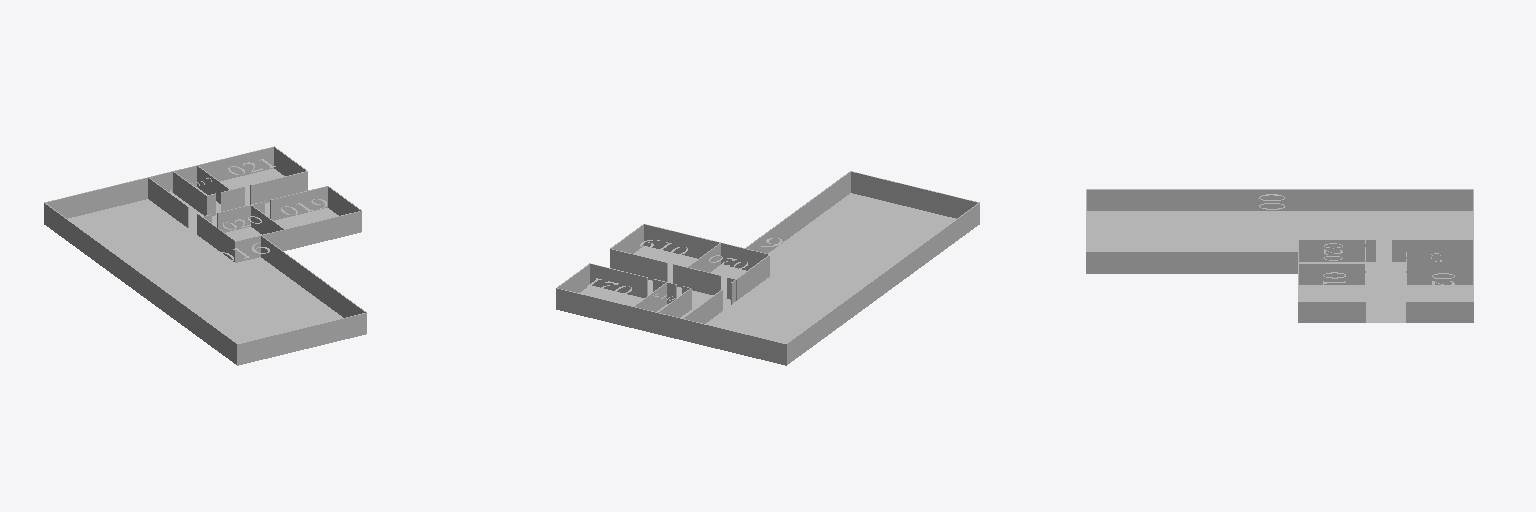
The model's file is sage0.obj.
The picture shows the model from 3 angles: view 1: azimuth 30°, elevation 25°; view 2: azimuth 150°, elevation 25°; view 3: azimuth 270°, elevation 25°; orthographic projection.
Visible parts, largest first — view 1: polySurface46, polySurface2 polySurface8, polySurface2 polySurface10, polySurface2 polySurface6, polySurface2 polySurface9, polySurface2 polySurface11, polySurface2 polySurface7, polySurface2 polySurface15, polySurface2 polySurface14, polySurface2 polySurface12, polySurface2 polySurface27, polySurface2 polySurface29 (+2 smaller); view 2: polySurface46, polySurface2 polySurface8, polySurface2 polySurface9, polySurface2 polySurface10, polySurface2 polySurface7, polySurface2 polySurface6, polySurface2 polySurface11, polySurface2 polySurface15, polySurface2 polySurface14, polySurface2 polySurface29, polySurface2 polySurface26, polySurface2 polySurface12; view 3: polySurface46, polySurface2 polySurface8, polySurface2 polySurface11, polySurface3 polySurface2, polySurface2 polySurface5, polySurface2 polySurface26, polySurface2 polySurface4, polySurface2 polySurface17, polySurface2 polySurface12, polySurface2 polySurface27.
Part boxes in pixels (bbox=[...]): polySurface46: bbox=[68, 168, 342, 343]; polySurface2 polySurface8: bbox=[44, 203, 237, 365]; polySurface2 polySurface10: bbox=[238, 313, 366, 365]; polySurface2 polySurface6: bbox=[236, 211, 361, 262]; polySurface2 polySurface9: bbox=[44, 171, 173, 218]; polySurface2 polySurface11: bbox=[260, 235, 366, 317]; polySurface2 polySurface7: bbox=[174, 146, 274, 186]; polySurface2 polySurface15: bbox=[250, 171, 307, 204]; polySurface2 polySurface14: bbox=[270, 186, 327, 220]; polySurface2 polySurface12: bbox=[148, 177, 188, 227]; polySurface2 polySurface27: bbox=[173, 172, 206, 215]; polySurface2 polySurface29: bbox=[217, 201, 264, 232]; polySurface46: bbox=[580, 193, 955, 343]; polySurface2 polySurface8: bbox=[786, 203, 979, 365]; polySurface2 polySurface9: bbox=[657, 313, 785, 365]; polySurface2 polySurface10: bbox=[851, 171, 979, 218]; polySurface2 polySurface7: bbox=[556, 288, 656, 333]; polySurface2 polySurface6: bbox=[644, 224, 769, 270]; polySurface2 polySurface11: bbox=[745, 171, 850, 253]; polySurface2 polySurface15: bbox=[590, 263, 647, 297]; polySurface2 polySurface14: bbox=[610, 249, 667, 281]; polySurface2 polySurface29: bbox=[673, 264, 720, 294]; polySurface2 polySurface26: bbox=[737, 255, 769, 299]; polySurface2 polySurface12: bbox=[682, 289, 722, 323]; polySurface46: bbox=[1087, 211, 1472, 322]; polySurface2 polySurface8: bbox=[1087, 189, 1472, 210]; polySurface2 polySurface11: bbox=[1087, 252, 1297, 273]; polySurface3 polySurface2: bbox=[1406, 301, 1472, 322]; polySurface2 polySurface5: bbox=[1298, 301, 1364, 322]; polySurface2 polySurface26: bbox=[1299, 240, 1364, 261]; polySurface2 polySurface4: bbox=[1407, 264, 1472, 284]; polySurface2 polySurface17: bbox=[1299, 264, 1364, 284]; polySurface2 polySurface12: bbox=[1392, 240, 1472, 261]; polySurface2 polySurface27: bbox=[1407, 252, 1472, 263].
Size of the model in its own units: 2267 by 201 by 3298.